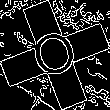O_S: (26, 24, 84, 86)
